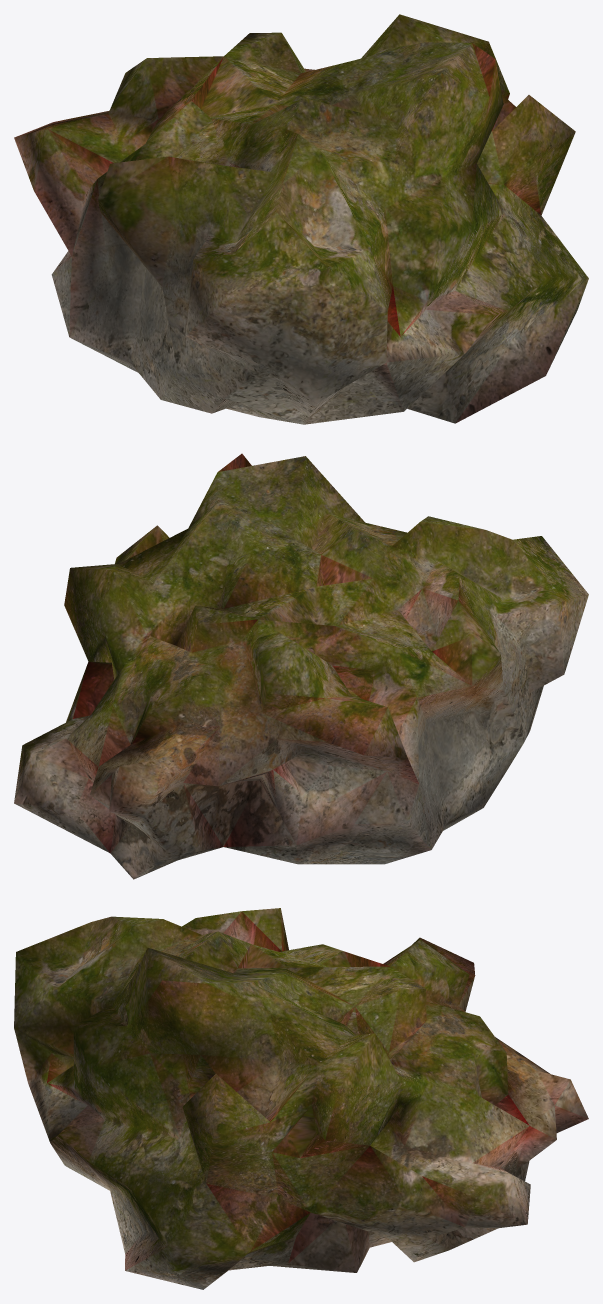
Rendered from coral.gltf.
The picture shows the model from 3 angles, top to bottom: view 1: azimuth 30°, elevation 25°; view 2: azimuth 150°, elevation 25°; view 3: azimuth 270°, elevation 25°; orthographic projection. The views are drawn at different scales.
Parts seen in each view (by area): view 1: ufnxaczfa_LOD0_TIER3_000; view 2: ufnxaczfa_LOD0_TIER3_000; view 3: ufnxaczfa_LOD0_TIER3_000.
Boxes of the visible parts, x1,y1,x2,y2 form: ufnxaczfa_LOD0_TIER3_000: (14, 14, 588, 424); ufnxaczfa_LOD0_TIER3_000: (14, 453, 588, 879); ufnxaczfa_LOD0_TIER3_000: (14, 908, 588, 1289).
Size of the model in its own units: 0.0944 by 0.0695 by 0.1148.
1 material, 1 textured.
